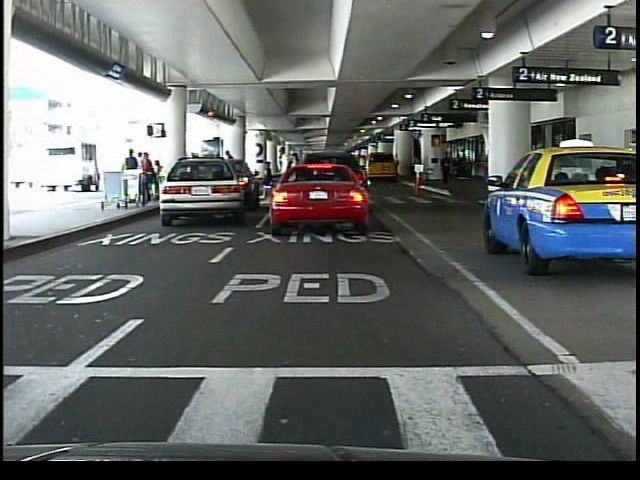person: (277, 146, 293, 204), (223, 149, 239, 201), (123, 147, 138, 201), (261, 160, 278, 205), (354, 150, 370, 193), (439, 151, 453, 187)
